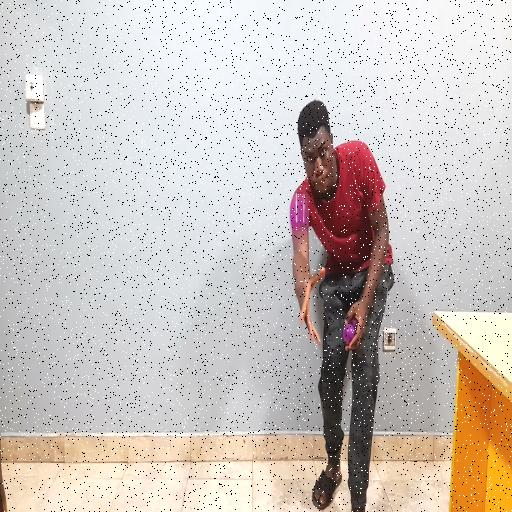plastic-ball: (290, 192, 307, 233)
